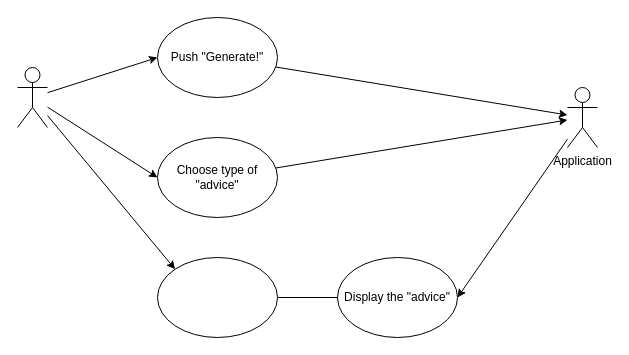
This 629x355 diagram has some shape labels left out. Each missing label, with the box of its shape:
Read the "advice": (156, 256, 278, 338)
User: (16, 66, 48, 128)
